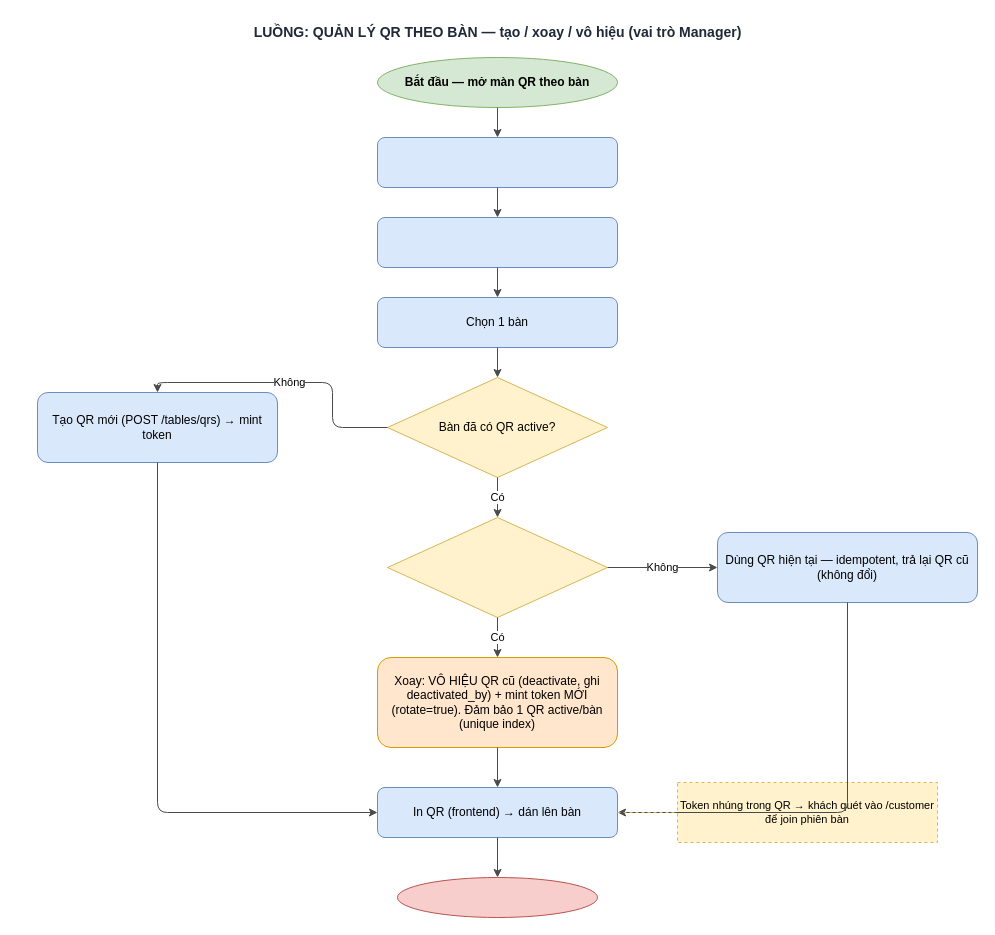
Some shapes in this 995 by 935 pixel diagram are drawn without their labels. The centre of each missing label's shape, as x and y in pixels:
"Kết thúc" goes at [497,897].
"Muốn xoay QR (rotate)?" goes at [497,567].
"Xem QR các bàn (GET /restaurant/tables/qrs)" goes at [497,242].
"Đăng nhập JWT + quyền DiningManage" goes at [497,162].
